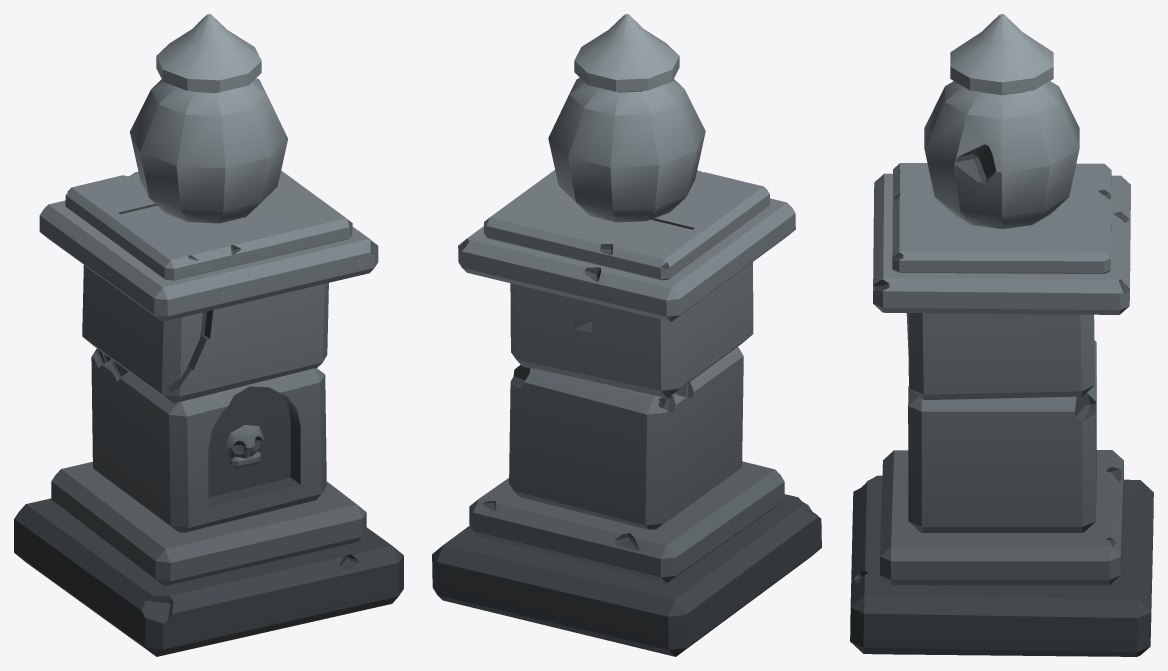
Rendered from grave_pedestal.glb.
3 renders of one model, left to right at view 1: azimuth 30°, elevation 25°; view 2: azimuth 150°, elevation 25°; view 3: azimuth 270°, elevation 25°, orthographic. The views are drawn at different scales.
Parts seen in each view (by area): view 1: grave_pedestal; view 2: grave_pedestal; view 3: grave_pedestal.
Part boxes in pixels (<box>): grave_pedestal: <box>14,14,403,656</box>; grave_pedestal: <box>432,14,821,656</box>; grave_pedestal: <box>850,14,1153,656</box>.
Bounding box in the file's own units: 1.13 × 2.36 × 1.12.
1 material, 1 textured.
